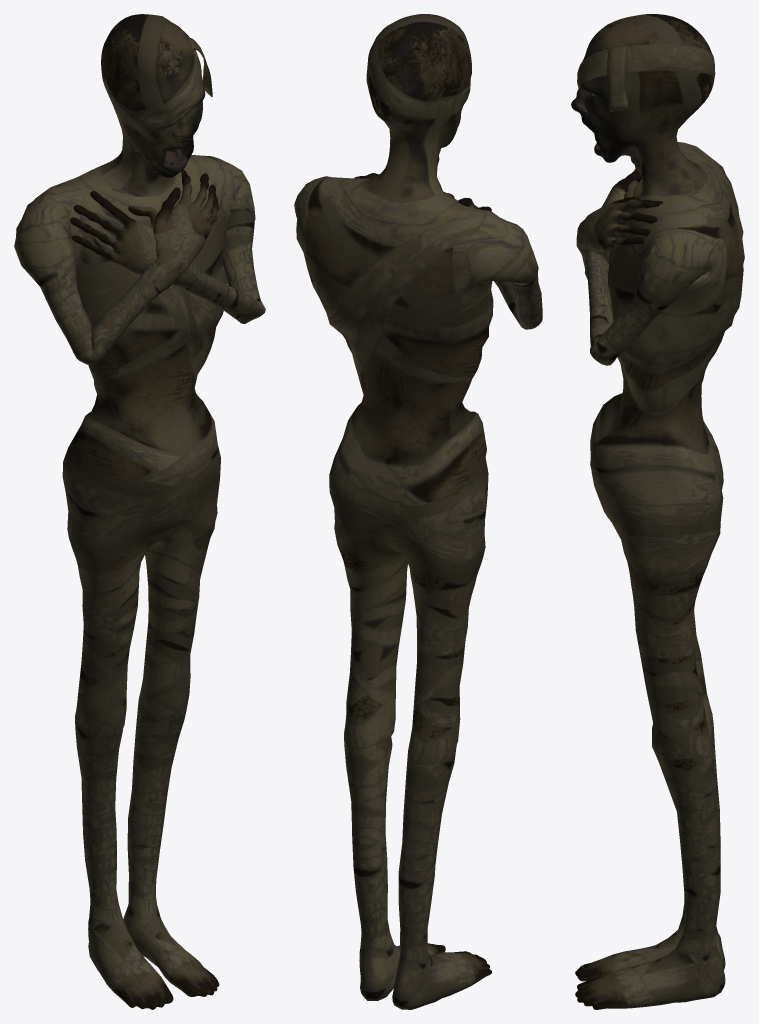
File: mummy.glb
3 views of the same model, side by side, from view 1: azimuth 30°, elevation 25°; view 2: azimuth 150°, elevation 25°; view 3: azimuth 270°, elevation 25° (orthographic).
Visible parts, largest first — view 1: Mummy_Low; view 2: Mummy_Low; view 3: Mummy_Low.
Part boxes in pixels (x1,y1,x2,y2): Mummy_Low: (14,14,265,1009); Mummy_Low: (294,14,542,1009); Mummy_Low: (571,14,744,1009).
Bounding box in the file's own units: 0.4808 × 1.92 × 0.3116.
1 material, 1 textured.
